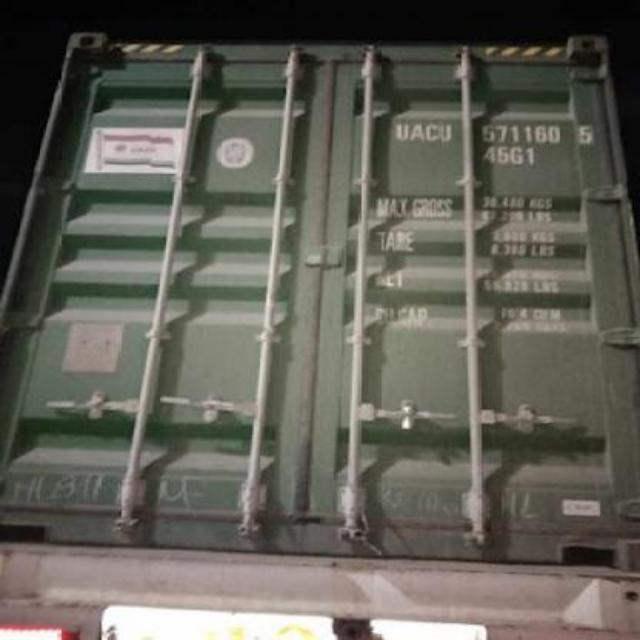0: (548, 118, 562, 148)
1: (508, 118, 522, 144), (522, 118, 534, 146)
5: (574, 117, 596, 147), (481, 116, 494, 148)
6: (532, 118, 548, 148)
7: (492, 117, 508, 143)
A: (411, 115, 424, 147)
C: (424, 112, 438, 148)
U: (392, 117, 408, 141), (438, 119, 452, 145)
